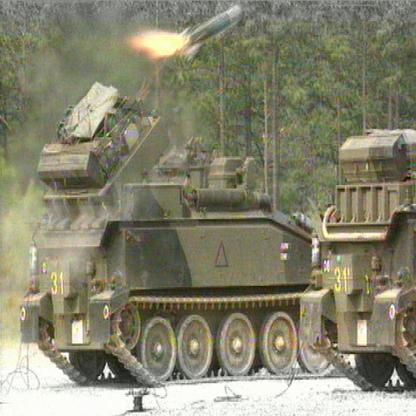Tank: (27, 143, 333, 391)
